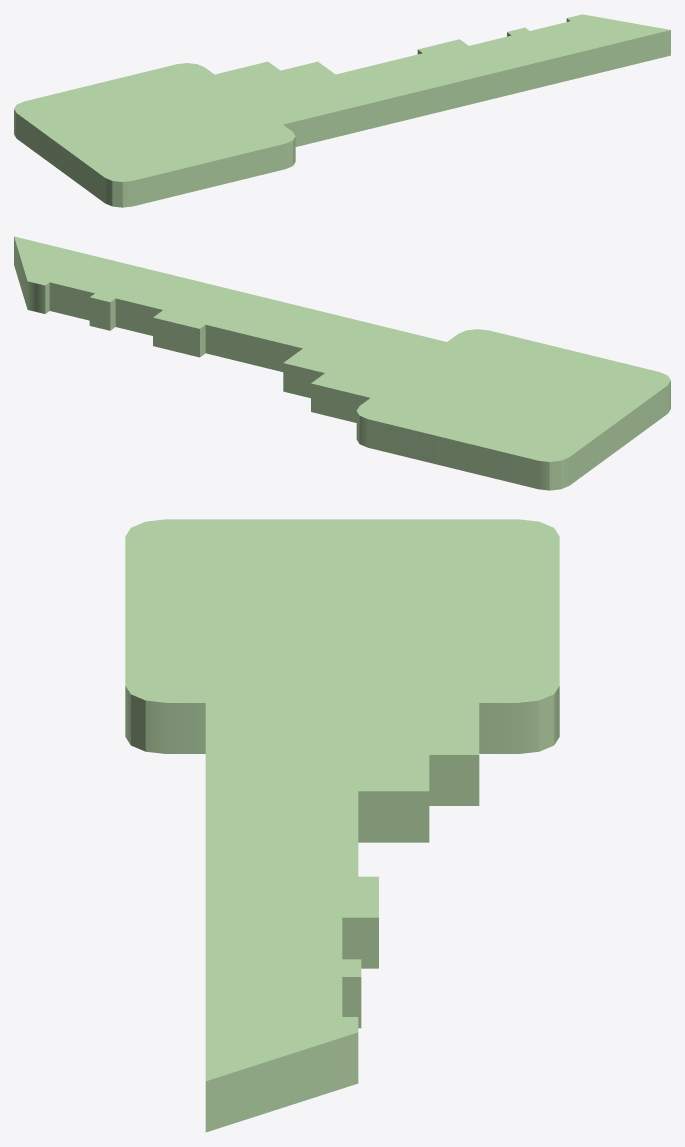
Rendered from KitchenKey.fbx.
3 renders of one model, top to bottom at view 1: azimuth 30°, elevation 25°; view 2: azimuth 150°, elevation 25°; view 3: azimuth 270°, elevation 25°, orthographic. The views are drawn at different scales.
Parts seen in each view (by area): view 1: Key; view 2: Key; view 3: Key.
Part boxes in pixels (x1,y1,x2,y2): Key: [14, 14, 670, 207]; Key: [14, 236, 670, 490]; Key: [125, 519, 559, 1132].
Bounding box in the file's own units: 0.2064 × 0.00877 × 0.0674.
